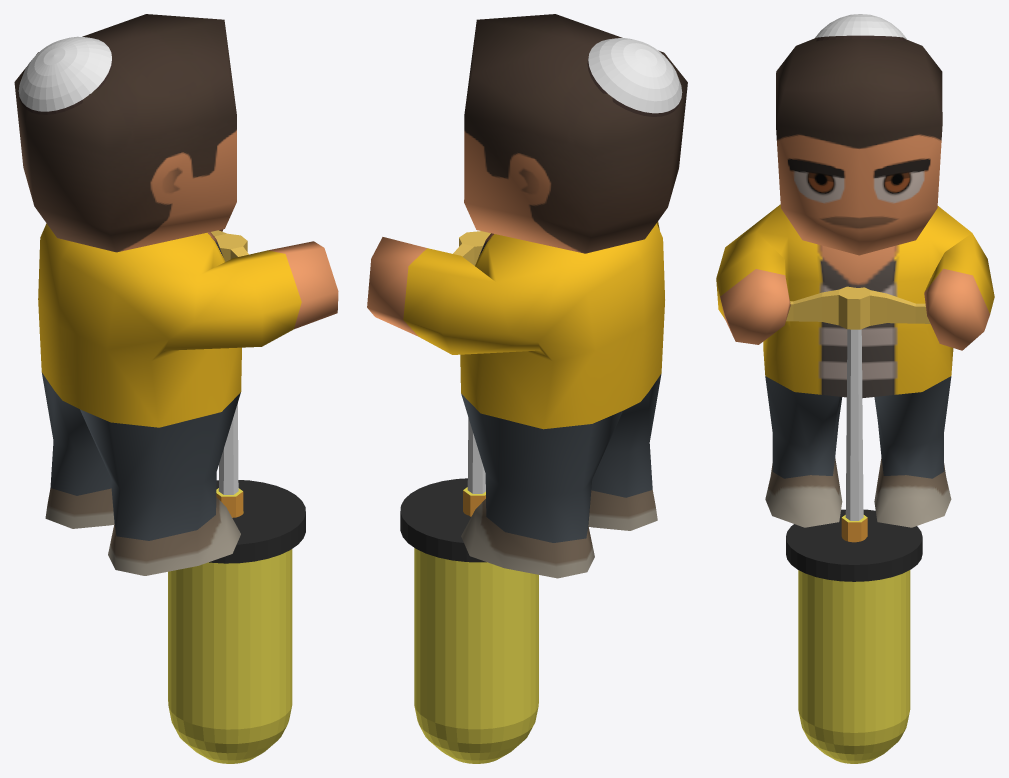
File: Jewgger.fbx
The picture shows the model from 3 angles, left to right: view 1: azimuth 30°, elevation 25°; view 2: azimuth 150°, elevation 25°; view 3: azimuth 270°, elevation 25°; orthographic projection. The views are drawn at different scales.
Visible parts, largest first — view 1: Body_09_jacket.004, Sphere; view 2: Body_09_jacket.004, Sphere; view 3: Body_09_jacket.004, Sphere.
Boxes of the visible parts, <box> form: Body_09_jacket.004: <box>14,14,338,763</box>; Sphere: <box>18,36,111,111</box>; Body_09_jacket.004: <box>367,14,687,763</box>; Sphere: <box>588,38,682,113</box>; Body_09_jacket.004: <box>716,35,994,763</box>; Sphere: <box>814,14,906,38</box>.
Size of the model in its own units: 35.54 by 95.32 by 35.6.
Materials: 6 (1 with a texture image).
